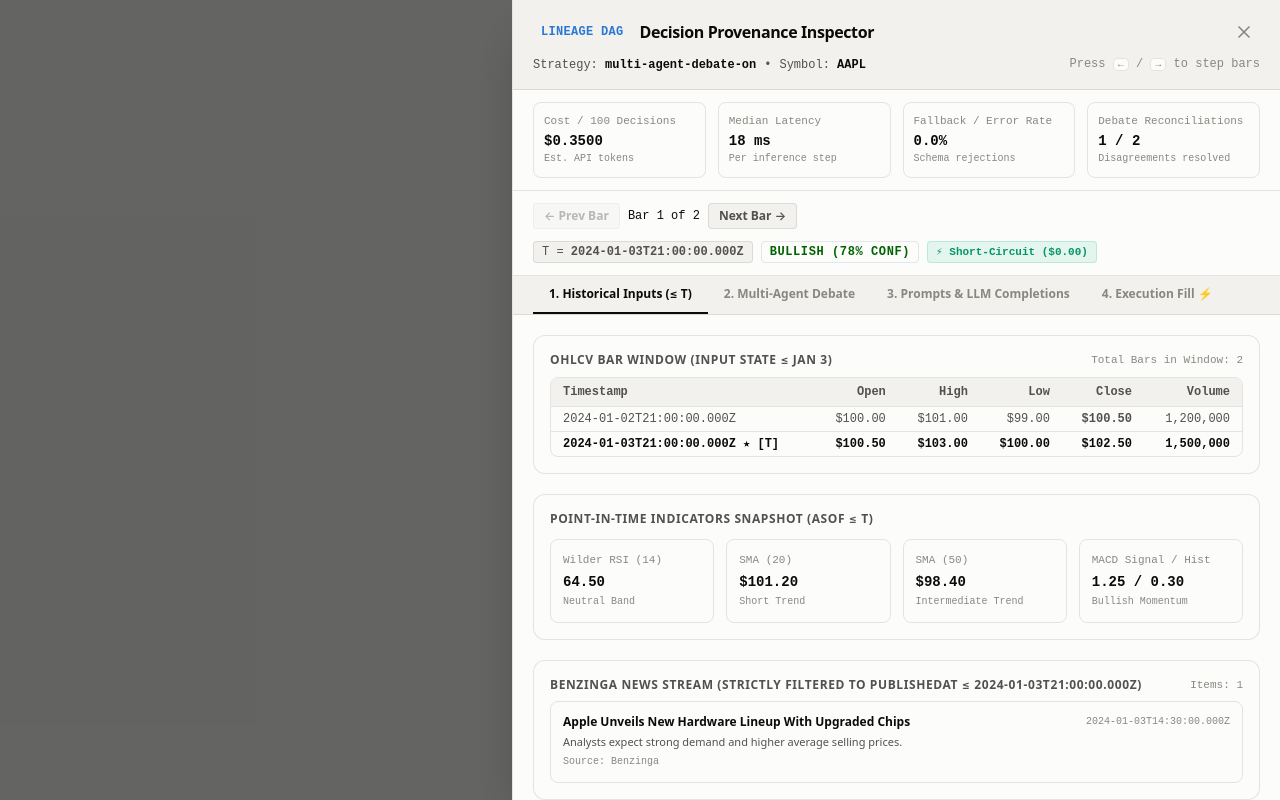
Test case: Decision Lineage DAG Inspector & Telemetry HUD › displays Execution Fill details in Execution tab
Note: Switch to Tab 4: Execution Fill
What coordinates should you click on to do the following:
click the button "4. Execution Fill ⚡"
I would click on:
 (1157, 295)
Its box is [1086,276,1229,314].
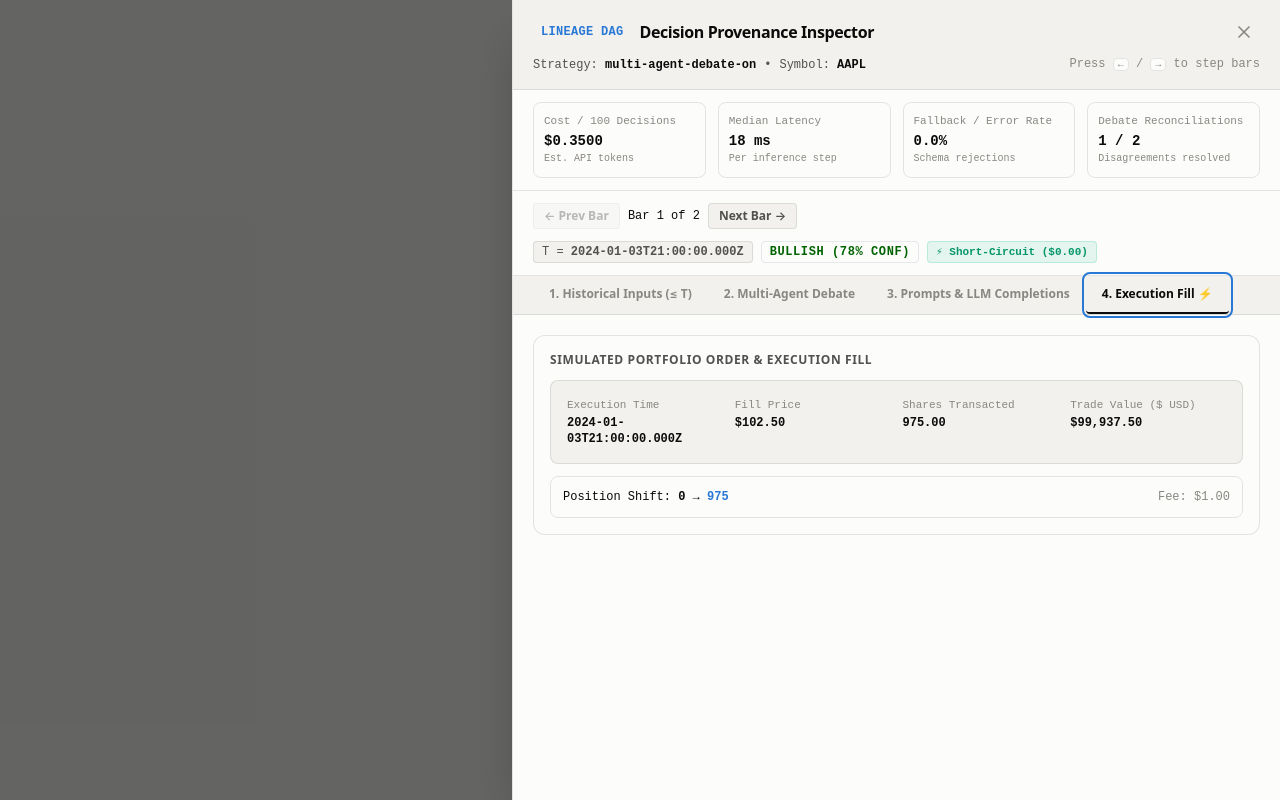
Result: the heading "Simulated Portfolio Order & Execution Fill" is shown at [550,351,872,368]
Result: the text "975.00" is shown at [902,416,946,430]
Result: the text "$99,937.50" is shown at [1070,416,1142,430]
